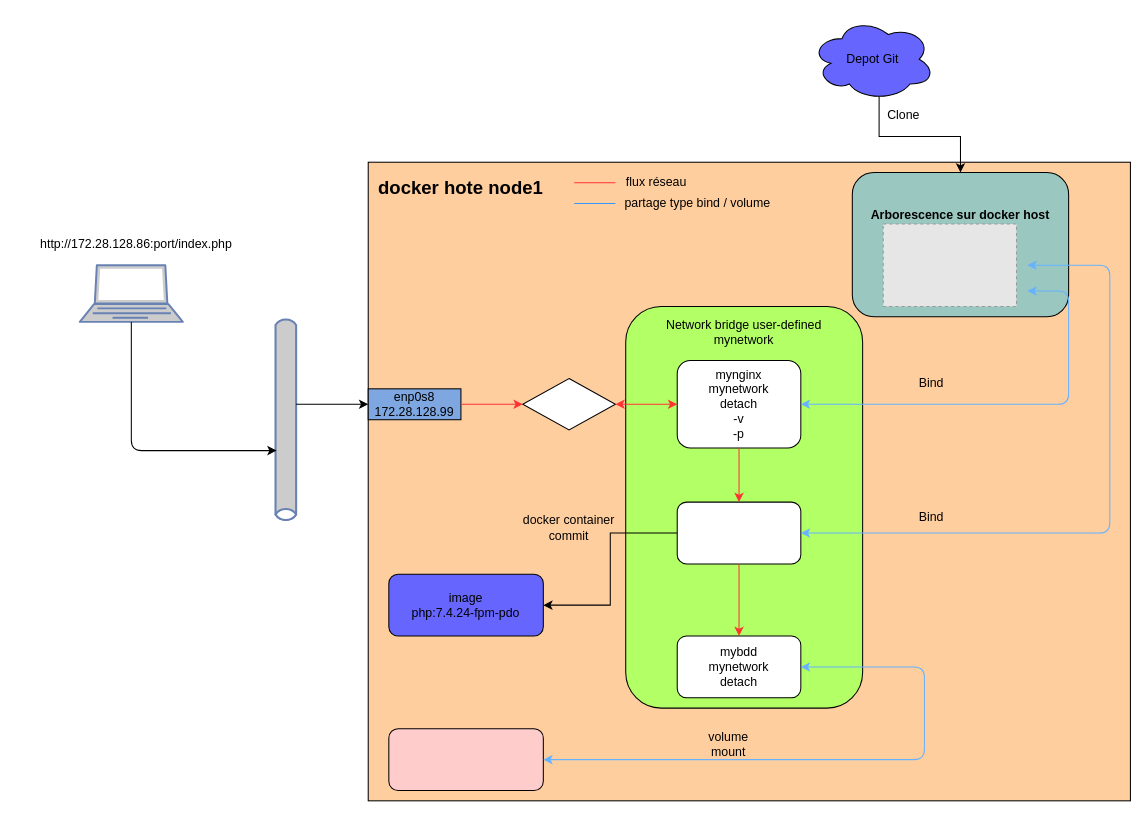
Some shapes in this 1148 by 819 pixel diagram are drawn without their labels. Grey dashed boxes stand in for pictures. The centre of each missing label's shape, as x and y in pixels:
myphp mynetwork detach -v: the point at 738,532
publish port: the point at 568,403
volumes docker volume: the point at 465,759
